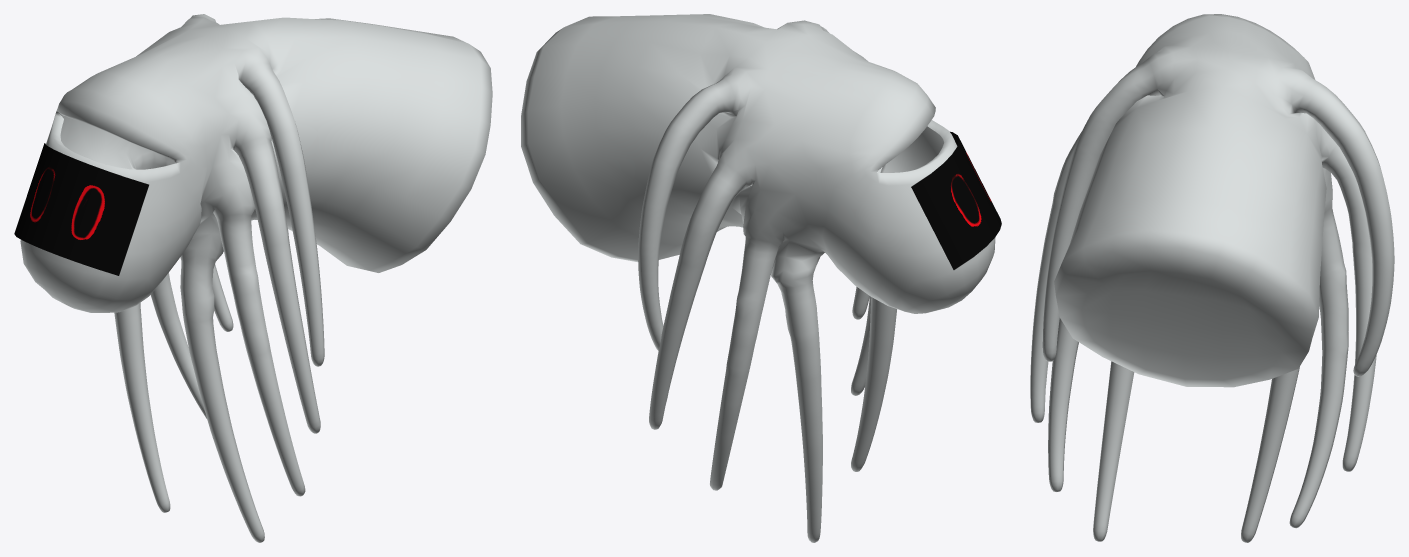
Rendered from TamagotchiKoralj_Test-Dead-002.fbx.
3 renders of one model, left to right at view 1: azimuth 30°, elevation 25°; view 2: azimuth 150°, elevation 25°; view 3: azimuth 270°, elevation 25°, orthographic. The views are drawn at different scales.
Visible parts, largest first — view 1: Koralj-Body.002, Koralj-EyePlane.002; view 2: Koralj-Body.002, Koralj-EyePlane.002; view 3: Koralj-Body.002.
Boxes of the visible parts, x1=… form: Koralj-Body.002: x1=20, y1=14, x2=492, y2=542; Koralj-EyePlane.002: x1=14, y1=143, x2=148, y2=275; Koralj-Body.002: x1=521, y1=14, x2=995, y2=542; Koralj-EyePlane.002: x1=911, y1=131, x2=1001, y2=269; Koralj-Body.002: x1=1030, y1=14, x2=1394, y2=542.
Bounding box in the file's own units: 205 × 211 × 135.
